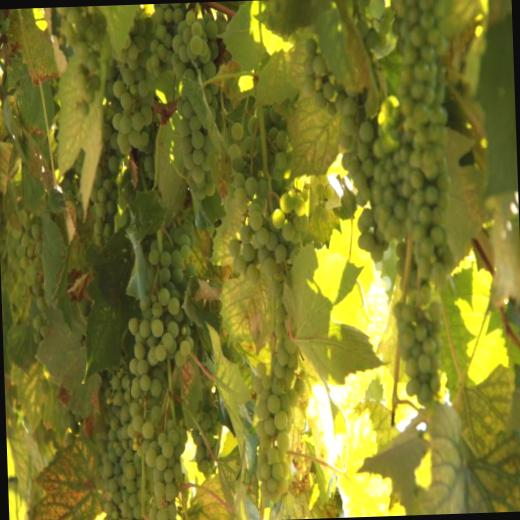Orange: (300, 0, 459, 414), (221, 102, 342, 511), (82, 210, 225, 520), (57, 2, 225, 246), (4, 210, 46, 348)
